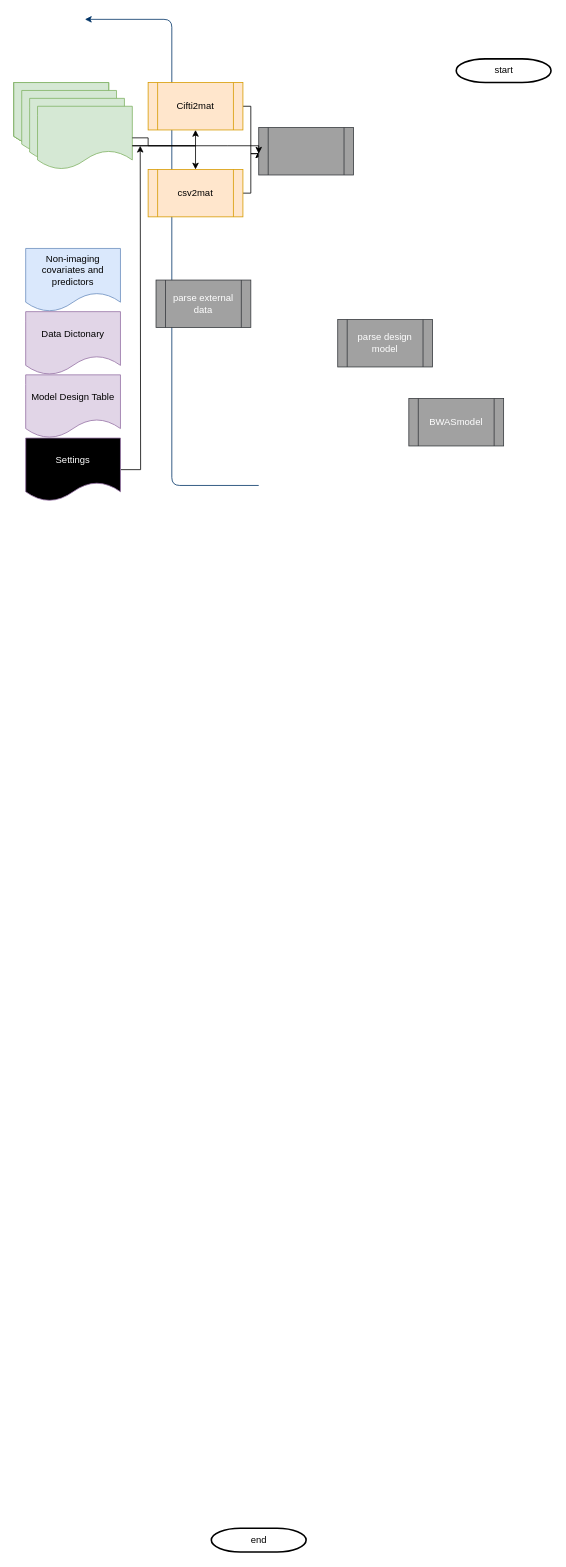
The diagram is 566 pixels wide and 1567 high, and some of its shapes have lost their labels. Each missing label, with the centre of its shape:
"fconn2table" belongs at (306,151).
"Imaging data" belongs at (84,137).
